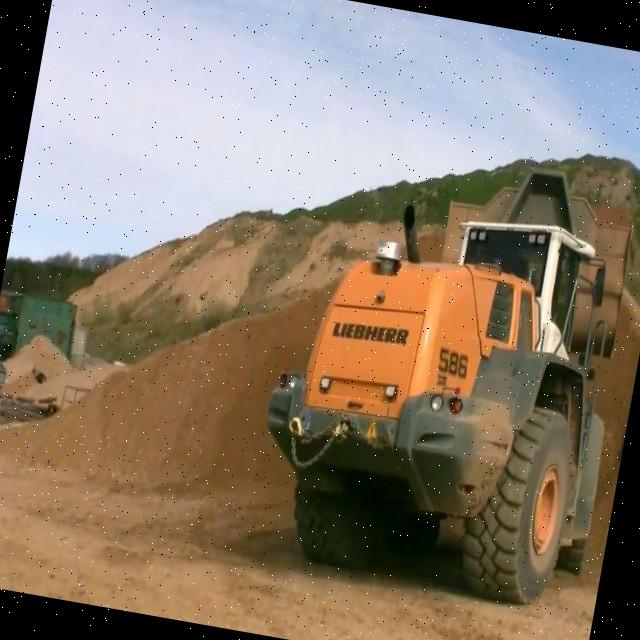Loader: (238, 131, 640, 618)
